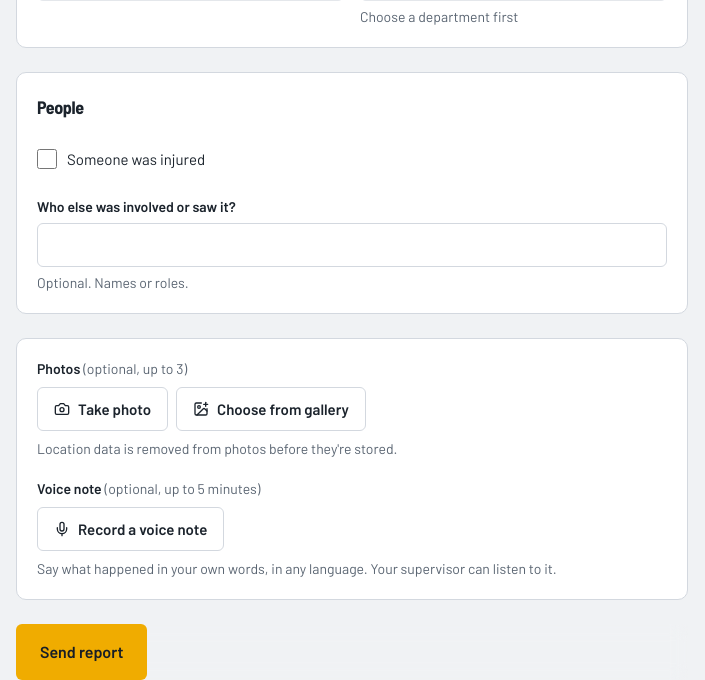
Test case: incident form shows field errors and does not submit when empty
(page scrolled)
Click the button "Send report". click: x=82, y=652
box: [16,624,147,679]
(page scrolled)
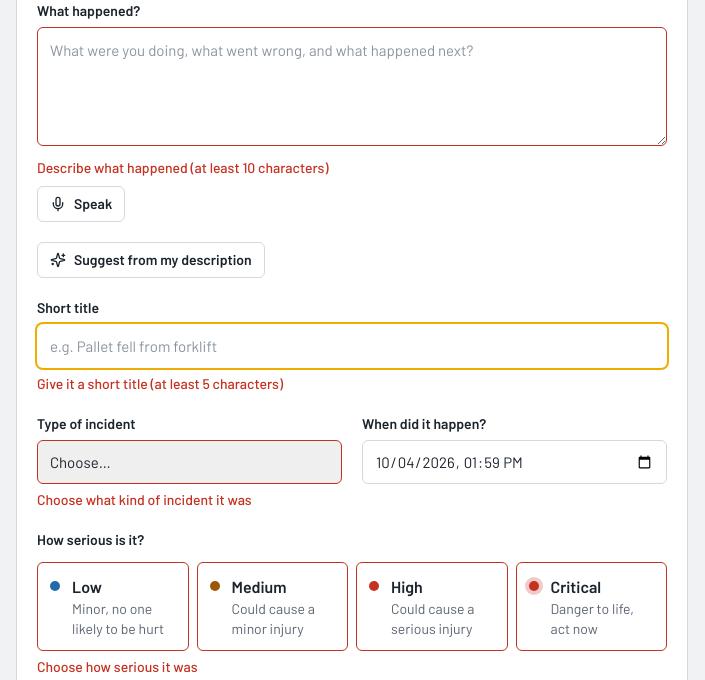
expect the text "Give it a short title (at least 5 characters)" is shown: met, box [37,375,283,392]
expect the text "Choose how serious it was" is shown: met, box [37,658,198,675]
